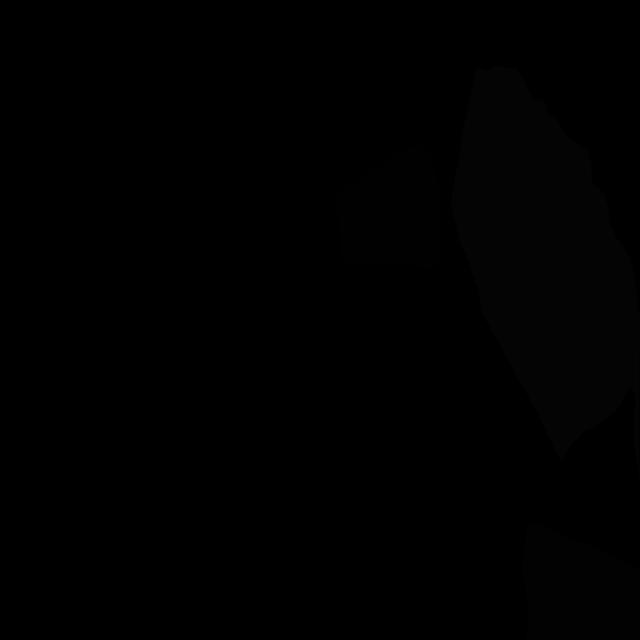cardboard: (522, 524, 640, 640)
rigid_plastic: (336, 144, 443, 271)
soft_plastic: (451, 65, 640, 489)
